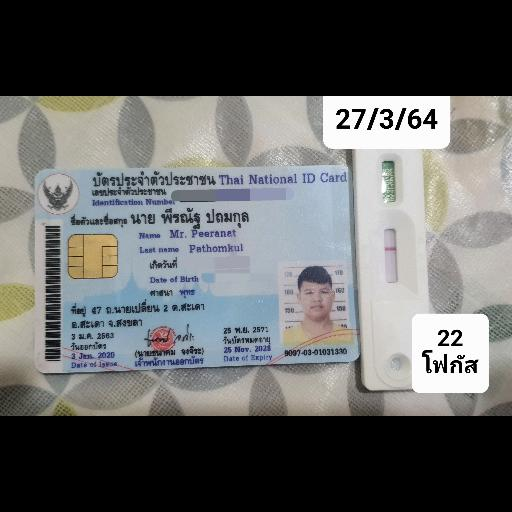Neg: (355, 148, 435, 389)
